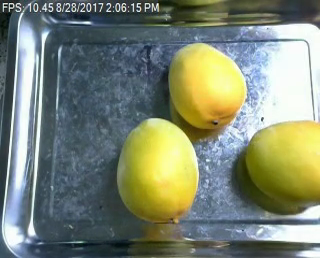Mango: (114, 117, 200, 224), (245, 118, 320, 210), (168, 42, 245, 127)
